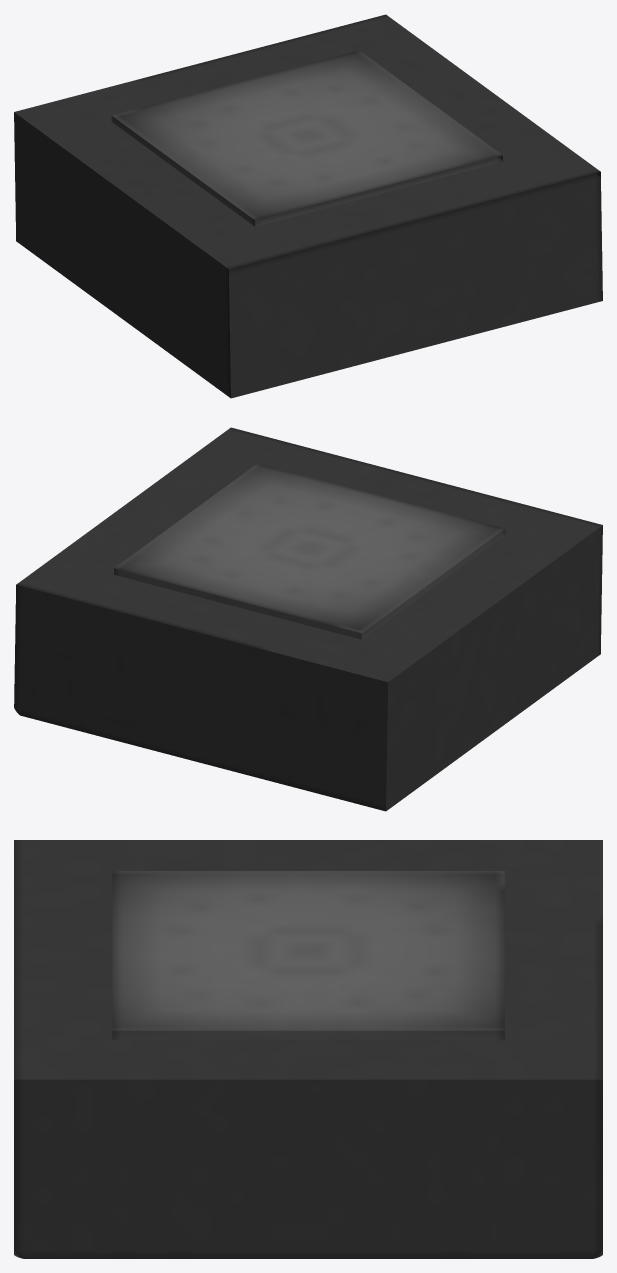
Rendered from tire.obj.
3 views of the same model, one above another, from view 1: azimuth 30°, elevation 25°; view 2: azimuth 150°, elevation 25°; view 3: azimuth 270°, elevation 25° (orthographic). The views are drawn at different scales.
Parts seen in each view (by area): view 1: nx, ny; view 2: nx, ny; view 3: nx, ny.
Boxes of the visible parts, x1,y1,x2,y2 form: nx: (14, 14, 602, 398); ny: (111, 50, 502, 226); nx: (14, 427, 602, 811); ny: (114, 463, 505, 639); nx: (14, 840, 602, 1258); ny: (112, 871, 504, 1039).
Size of the model in its own units: 0.9428 by 0.3417 by 0.9375.
Materials: 1 (1 with a texture image).
